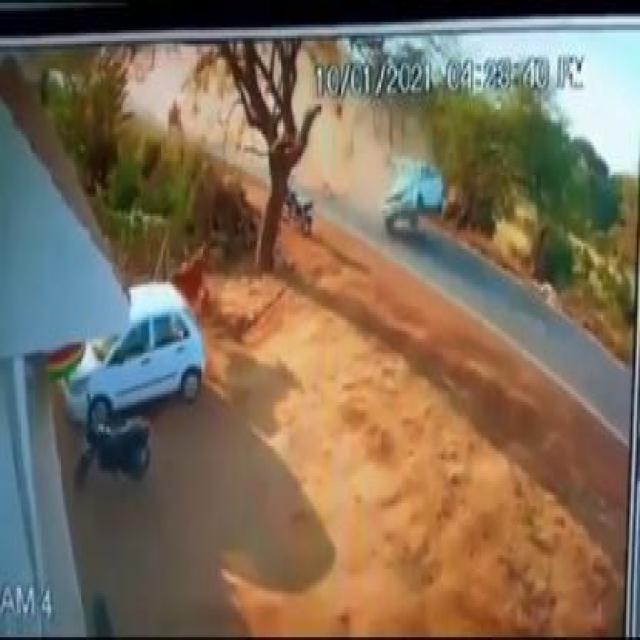accident: (378, 148, 448, 252)
